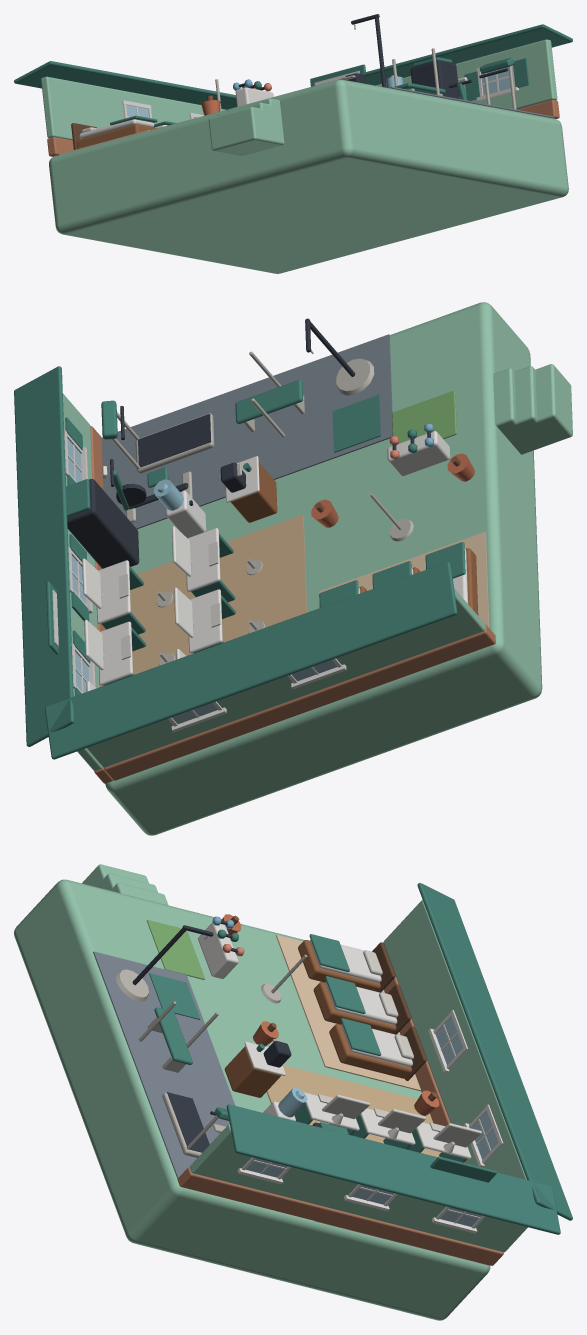
The model's file is station-projects.glb.
3 renders of one model, top to bottom at view 1: azimuth 30°, elevation 25°; view 2: azimuth 150°, elevation 25°; view 3: azimuth 270°, elevation 25°, orthographic. The views are drawn at different scales.
Visible parts, largest first — view 1: projects; view 2: projects; view 3: projects.
Boxes of the visible parts, x1,y1,x2,y2 form: projects: (14, 14, 572, 273); projects: (14, 302, 572, 835); projects: (14, 864, 572, 1320).
Size of the model in its own units: 6.61 by 4.6 by 6.03.
